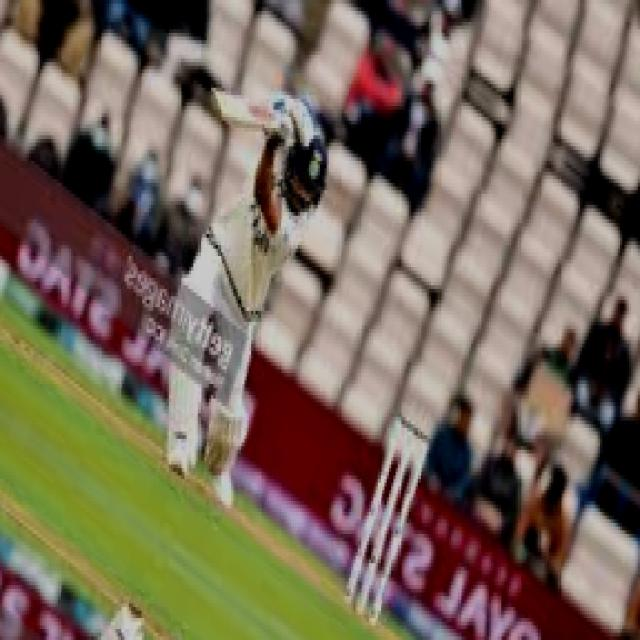toe: (205, 75, 243, 128)
